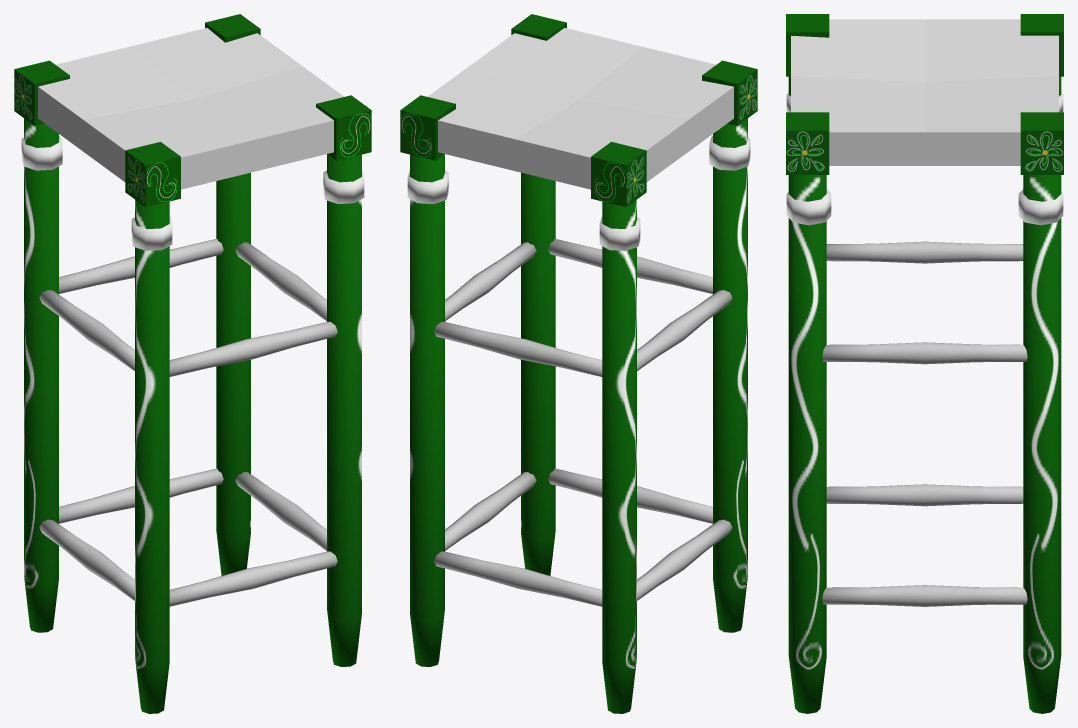
The model's file is taburete.fbx.
3 views of the same model, side by side, from view 1: azimuth 30°, elevation 25°; view 2: azimuth 150°, elevation 25°; view 3: azimuth 270°, elevation 25° (orthographic). The views are drawn at different scales.
Visible parts, largest first — view 1: Cylinder, Cube, Cylinder.002, Cylinder.001, Cube.001, Cylinder.003; view 2: Cylinder, Cube, Cylinder.002, Cylinder.001, Cube.001, Cylinder.003; view 3: Cylinder, Cube, Cube.001, Cylinder.002, Cylinder.001, Cylinder.003.
Part boxes in pixels (bbox=[...]): Cylinder: bbox=[24, 118, 361, 713]; Cube: bbox=[38, 28, 343, 189]; Cylinder.002: bbox=[39, 239, 337, 376]; Cylinder.001: bbox=[39, 468, 337, 606]; Cube.001: bbox=[14, 14, 371, 206]; Cylinder.003: bbox=[21, 136, 364, 250]; Cylinder: bbox=[410, 118, 747, 713]; Cube: bbox=[428, 28, 733, 189]; Cylinder.002: bbox=[434, 239, 732, 376]; Cylinder.001: bbox=[434, 468, 732, 606]; Cube.001: bbox=[400, 14, 757, 206]; Cylinder.003: bbox=[407, 136, 750, 250]; Cylinder: bbox=[788, 76, 1061, 713]; Cube: bbox=[791, 19, 1058, 165]; Cube.001: bbox=[786, 14, 1063, 174]; Cylinder.002: bbox=[822, 241, 1027, 364]; Cylinder.001: bbox=[822, 484, 1027, 606]; Cylinder.003: bbox=[786, 93, 1063, 225].
Size of the model in its own units: 36.49 by 36.62 by 85.07.
